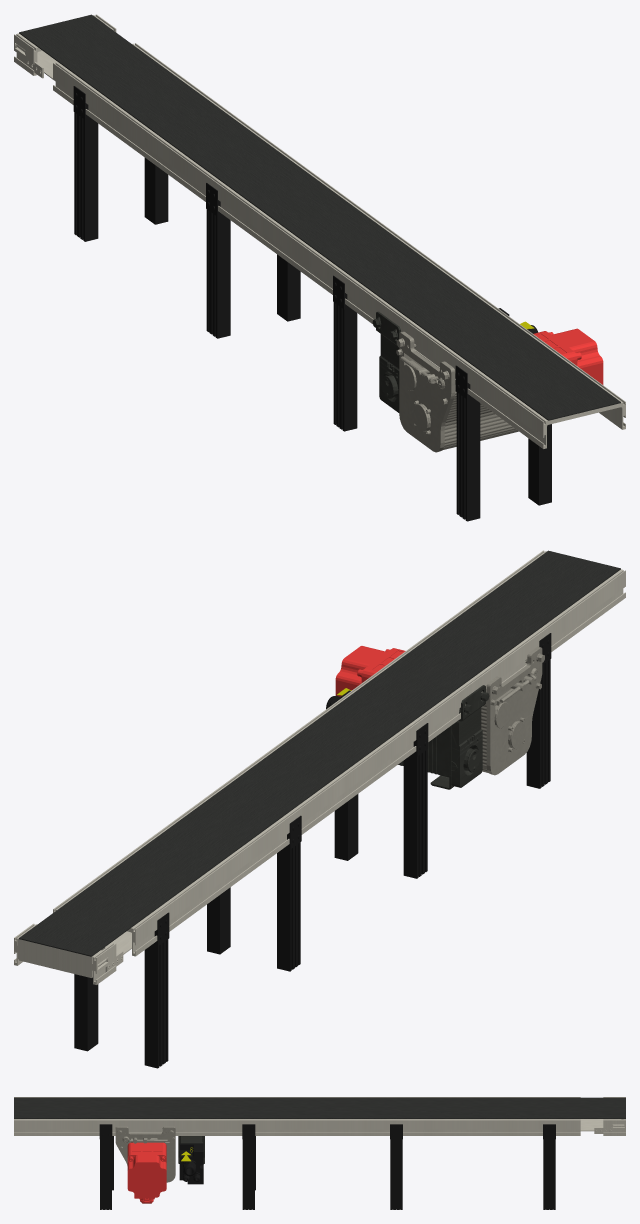
File: ConveyorB3m.glb
The picture shows the model from 3 angles, top to bottom: view 1: azimuth 30°, elevation 25°; view 2: azimuth 150°, elevation 25°; view 3: azimuth 270°, elevation 25°; orthographic projection. The views are drawn at different scales.
Visible parts, largest first — view 1: belt, Mesh_5, Mesh_5.001, Copy_of_Unnamed_Node_7.001, Mesh_6, Copy_of_Unnamed_Node_7, Mesh_7, Mesh_9.001, Copy_of_Copy_of_Unnamed_Node_8, Mesh_9, Mesh_8, Mesh_12 (+1 smaller); view 2: belt, Mesh_5, Mesh_5.001, Mesh_6, Mesh_7, Copy_of_Unnamed_Node_7, Mesh_12, Mesh_0, Copy_of_Unnamed_Node_7.001, Mesh_9, Mesh_9.001, Copy_of_Unnamed_Node_8 (+2 smaller); view 3: belt, Mesh_5, Mesh_9.001, Mesh_5.001, Copy_of_Unnamed_Node_8, Mesh_9, Mesh_8, Copy_of_Copy_of_Unnamed_Node_8, Mesh_2.001, Mesh_0, Mesh_1, Mesh_12.
Part boxes in pixels (bbox=[...]): belt: bbox=[19, 14, 620, 420]; Mesh_5: bbox=[53, 43, 625, 448]; Mesh_5.001: bbox=[396, 331, 518, 452]; Copy_of_Unnamed_Node_7.001: bbox=[455, 365, 480, 521]; Mesh_6: bbox=[73, 86, 98, 241]; Copy_of_Unnamed_Node_7: bbox=[206, 183, 230, 338]; Mesh_7: bbox=[333, 275, 357, 431]; Mesh_9.001: bbox=[533, 328, 603, 384]; Copy_of_Copy_of_Unnamed_Node_8: bbox=[528, 424, 551, 505]; Mesh_9: bbox=[144, 157, 168, 224]; Mesh_8: bbox=[277, 254, 300, 321]; Mesh_12: bbox=[379, 334, 399, 412]; belt: bbox=[19, 550, 620, 956]; Mesh_5: bbox=[53, 550, 625, 956]; Mesh_5.001: bbox=[481, 646, 544, 775]; Mesh_6: bbox=[144, 912, 169, 1068]; Mesh_7: bbox=[403, 723, 428, 878]; Copy_of_Unnamed_Node_7: bbox=[277, 815, 301, 971]; Mesh_12: bbox=[398, 707, 482, 787]; Mesh_0: bbox=[14, 923, 123, 984]; Copy_of_Unnamed_Node_7.001: bbox=[526, 633, 551, 788]; Mesh_9: bbox=[74, 974, 98, 1051]; Mesh_9.001: bbox=[335, 646, 405, 696]; Copy_of_Unnamed_Node_8: bbox=[334, 794, 358, 860]; belt: bbox=[14, 1097, 625, 1118]; Mesh_5: bbox=[14, 1097, 580, 1135]; Mesh_9.001: bbox=[127, 1142, 166, 1203]; Mesh_5.001: bbox=[115, 1126, 175, 1182]; Copy_of_Unnamed_Node_8: bbox=[242, 1124, 255, 1209]; Mesh_9: bbox=[543, 1124, 555, 1209]; Mesh_8: bbox=[390, 1124, 402, 1209]; Copy_of_Copy_of_Unnamed_Node_8: bbox=[99, 1124, 112, 1209]; Mesh_2.001: bbox=[179, 1143, 203, 1184]; Mesh_0: bbox=[594, 1097, 625, 1135]; Mesh_1: bbox=[580, 1119, 620, 1131]; Mesh_12: bbox=[180, 1136, 203, 1143].
Size of the model in its own units: 0.2643 by 0.23 by 1.42.
Materials: 11 (4 with a texture image).
